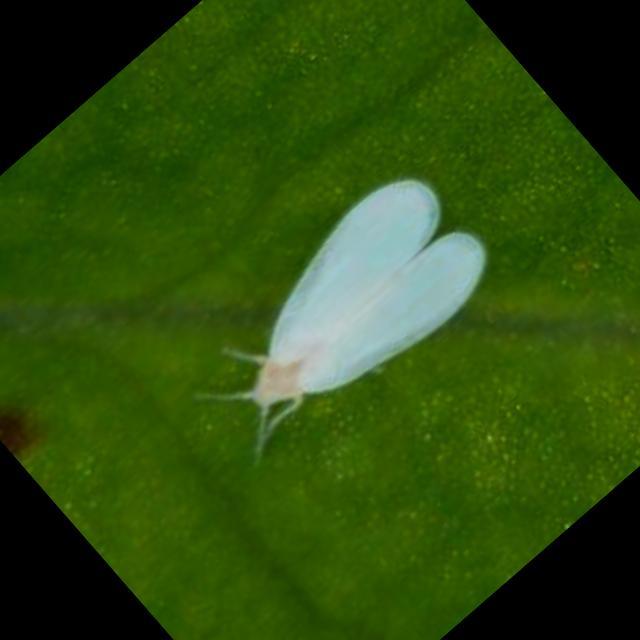Silverleaf whitefly: (138, 115, 540, 508)
